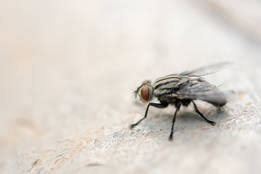insect: (127, 61, 238, 142)
